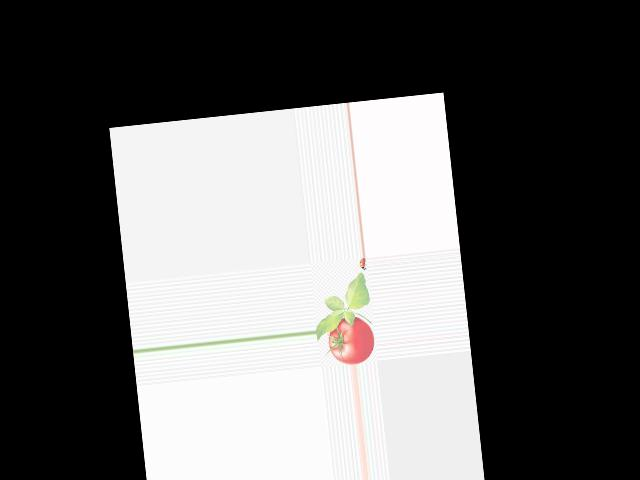tomato: (326, 314, 376, 366)
